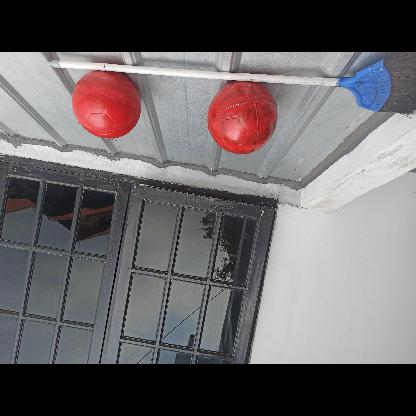red_ball: (207, 82, 280, 155), (72, 69, 142, 139)
